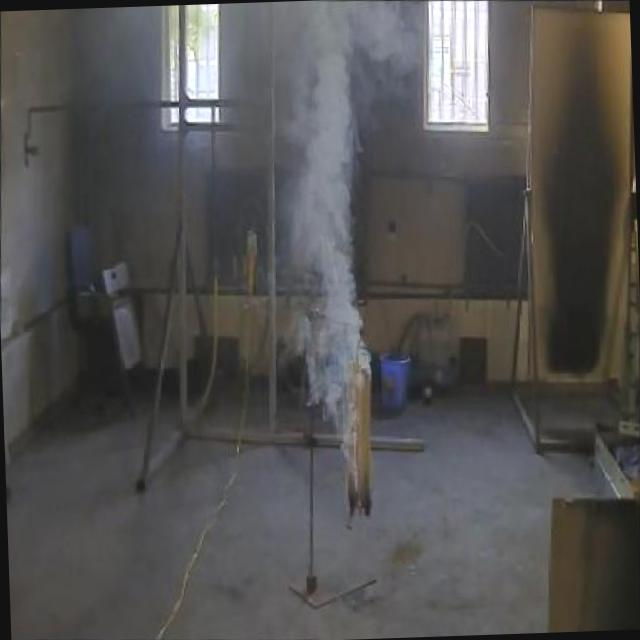smoke: (266, 2, 441, 484)
